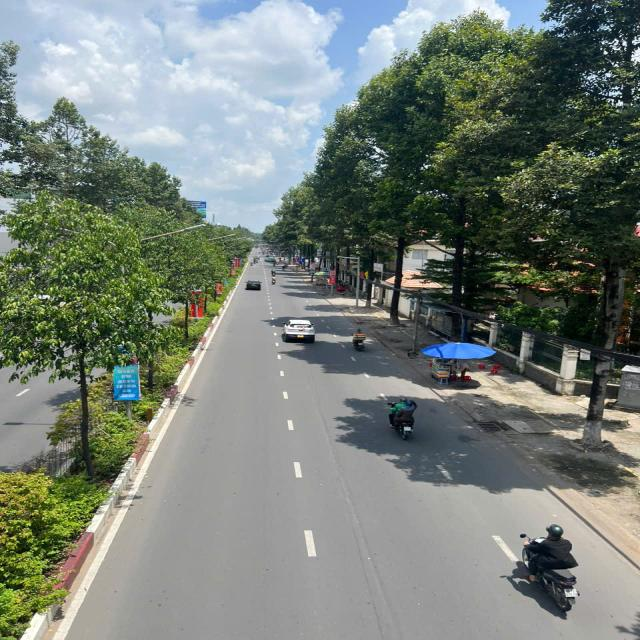car: (278, 311, 322, 349), (242, 276, 267, 296)
motobyte: (507, 518, 598, 614), (380, 394, 430, 442), (346, 322, 374, 356), (267, 274, 281, 288)
